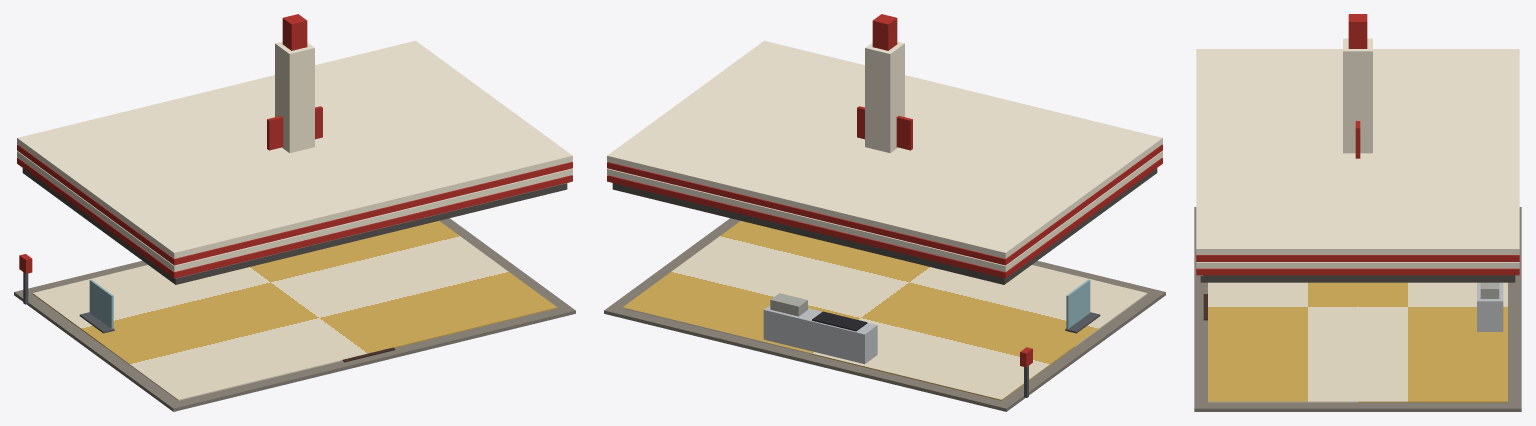
The model's file is structure.glb.
The picture shows the model from 3 angles, left to right: view 1: azimuth 30°, elevation 25°; view 2: azimuth 150°, elevation 25°; view 3: azimuth 270°, elevation 25°; orthographic projection. The views are drawn at different scales.
Parts seen in each view (by area): view 1: Box10, Box2, Box1, Box7, Box9, Box8, Box11, Box5, Box15, Box12, Box13; view 2: Box10, Box2, Box1, Box7, Box9, Box8, Box11, Box19, Box5, Box15, Box12, Box21 (+2 smaller); view 3: Box10, Box2, Box1, Box11, Box7, Box5, Box8, Box9, Box19, Box12, Box21.
Boxes of the visible parts, x1,y1,x2,y2 form: Box10: [17, 40, 572, 258]; Box2: [32, 221, 557, 400]; Box1: [14, 218, 575, 411]; Box7: [17, 157, 572, 278]; Box9: [17, 144, 572, 265]; Box8: [17, 151, 572, 271]; Box11: [275, 41, 314, 153]; Box5: [22, 168, 567, 284]; Box15: [89, 279, 113, 328]; Box12: [282, 14, 307, 50]; Box13: [267, 116, 283, 150]; Box10: [607, 40, 1162, 258]; Box2: [622, 221, 1147, 400]; Box1: [604, 218, 1165, 411]; Box7: [607, 157, 1162, 278]; Box9: [607, 144, 1162, 265]; Box8: [607, 151, 1162, 271]; Box11: [865, 41, 904, 153]; Box19: [763, 305, 877, 364]; Box5: [612, 168, 1157, 284]; Box15: [1066, 279, 1090, 328]; Box12: [872, 14, 897, 50]; Box21: [770, 293, 807, 316]; Box10: [1196, 49, 1519, 254]; Box2: [1208, 282, 1507, 402]; Box1: [1194, 207, 1521, 411]; Box11: [1343, 38, 1372, 153]; Box7: [1196, 268, 1519, 275]; Box5: [1200, 275, 1515, 282]; Box8: [1196, 262, 1519, 268]; Box9: [1196, 255, 1519, 261]; Box19: [1477, 282, 1503, 331]; Box12: [1348, 14, 1367, 48]; Box21: [1480, 282, 1499, 298].
Bounding box in the file's own units: 12.97 × 8.63 × 8.74.
Materials: 13 (1 with a texture image).
